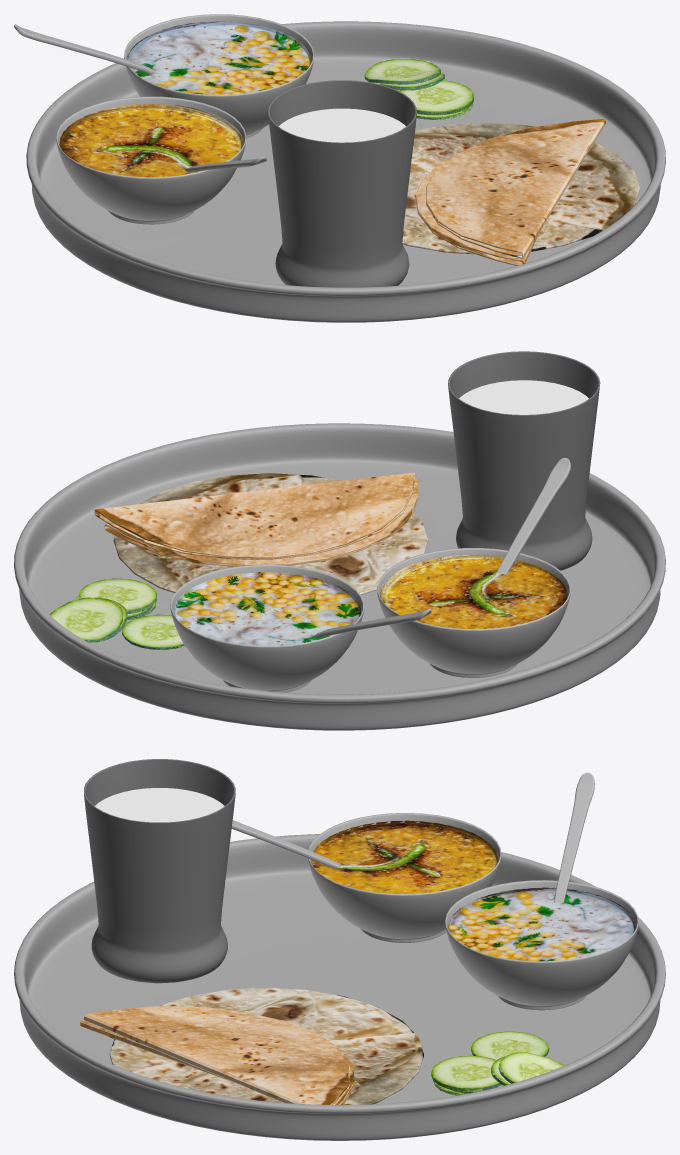
The model's file is thali.gltf.
The picture shows the model from 3 angles, top to bottom: view 1: azimuth 30°, elevation 25°; view 2: azimuth 150°, elevation 25°; view 3: azimuth 270°, elevation 25°; orthographic projection.
Visible parts, largest first — view 1: pCylinder3, pCylinder1, pPlane12, pDisc1, pCylinder6, pCylinder5, pSphere8, pSphere10, pCylinder13, pCylinder4, pPlane11, pPlane8 (+1 smaller); view 2: pCylinder3, pCylinder1, pPlane12, pCylinder6, pCylinder5, pDisc1, pSphere10, pSphere8, pCylinder13, pCylinder4, pPlane11, pPlane4 (+1 smaller); view 3: pCylinder3, pCylinder1, pPlane12, pDisc1, pCylinder6, pCylinder5, pSphere10, pSphere8, pCylinder13, pCylinder4, pPlane8, pPlane11 (+1 smaller).
Boxes of the visible parts, x1,y1,x2,y2 form: pCylinder3: [26, 21, 665, 322]; pCylinder1: [267, 80, 416, 287]; pPlane12: [426, 119, 605, 258]; pDisc1: [402, 122, 639, 254]; pCylinder6: [127, 21, 310, 94]; pCylinder5: [59, 103, 243, 177]; pSphere8: [56, 96, 246, 224]; pSphere10: [124, 14, 314, 138]; pCylinder13: [364, 58, 473, 119]; pCylinder4: [279, 108, 405, 142]; pPlane11: [415, 146, 539, 265]; pPlane8: [14, 24, 157, 74]; pCylinder3: [14, 423, 665, 730]; pCylinder1: [448, 351, 600, 570]; pPlane12: [94, 472, 415, 559]; pCylinder6: [173, 572, 360, 645]; pCylinder5: [380, 555, 567, 628]; pDisc1: [113, 473, 428, 595]; pSphere10: [170, 564, 364, 692]; pSphere8: [377, 548, 570, 677]; pCylinder13: [49, 578, 184, 649]; pCylinder4: [459, 380, 588, 414]; pPlane11: [104, 478, 418, 566]; pPlane4: [496, 457, 570, 574]; pCylinder3: [14, 834, 665, 1140]; pCylinder1: [84, 759, 235, 983]; pPlane12: [84, 1006, 350, 1104]; pDisc1: [109, 987, 423, 1104]; pCylinder6: [448, 887, 635, 961]; pCylinder5: [311, 820, 498, 893]; pSphere10: [445, 880, 638, 1010]; pSphere8: [308, 813, 501, 942]; pCylinder13: [431, 1031, 564, 1095]; pCylinder4: [95, 788, 224, 822]; pPlane8: [554, 772, 594, 903]; pPlane11: [80, 1011, 354, 1104].
Bounding box in the file's own units: 0.0576 × 0.0167 × 0.0576.
Materials: 14 (6 with a texture image).
